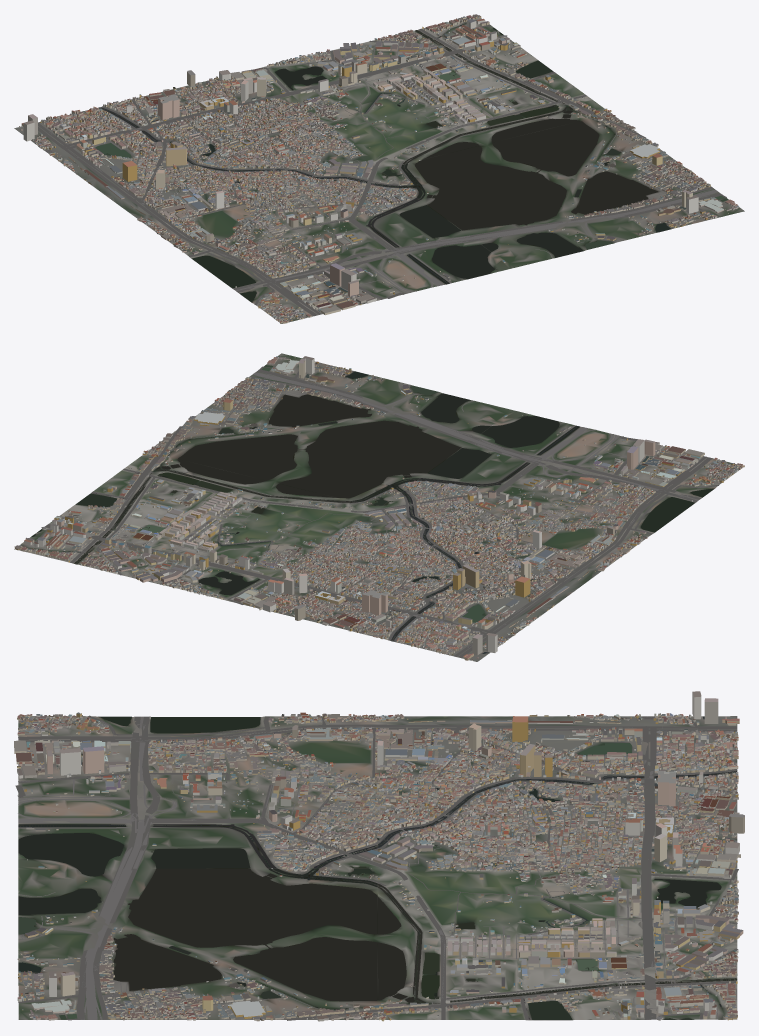
The picture shows the model from 3 angles, top to bottom: view 1: azimuth 30°, elevation 25°; view 2: azimuth 150°, elevation 25°; view 3: azimuth 270°, elevation 25°; orthographic projection. The views are drawn at different scales.
Parts seen in each view (by area): view 1: buildings, ground, water, roads; view 2: buildings, ground, water, roads; view 3: ground, buildings, water, roads.
Boxes of the visible parts, x1=… form: buildings: x1=19, y1=14, x2=739, y2=323; ground: x1=14, y1=16, x2=744, y2=323; water: x1=95, y1=24, x2=728, y2=302; roads: x1=32, y1=24, x2=740, y2=316; buildings: x1=14, y1=356, x2=744, y2=660; ground: x1=14, y1=353, x2=744, y2=661; water: x1=31, y1=365, x2=714, y2=653; roads: x1=21, y1=355, x2=718, y2=657; ground: x1=18, y1=716, x2=737, y2=1020; buildings: x1=14, y1=691, x2=744, y2=1021; water: x1=18, y1=716, x2=737, y2=1019; roads: x1=15, y1=715, x2=738, y2=1020.
Bounding box in the file's own units: 2840 × 107 × 2851.
